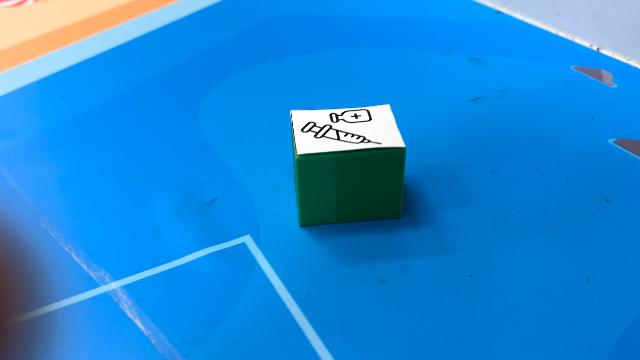syringe: (289, 103, 406, 226)
